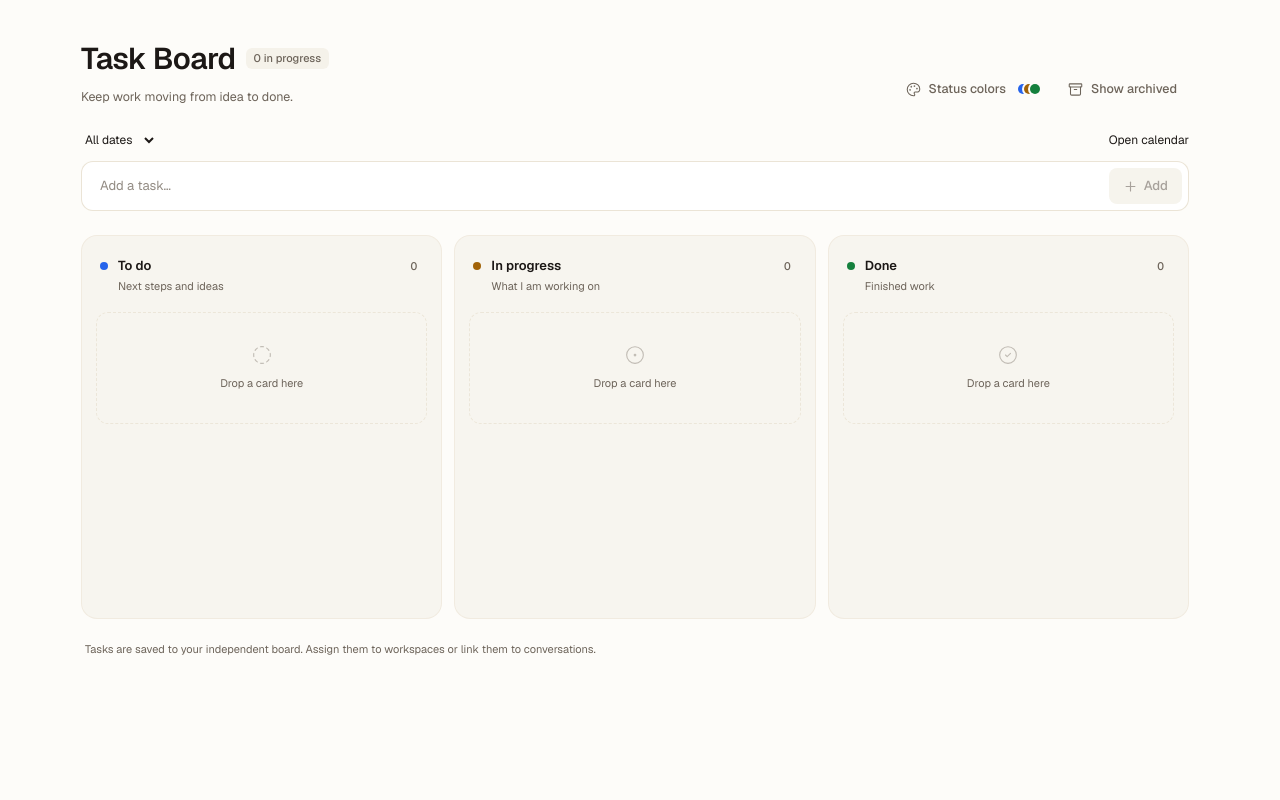
Scenario: Task Board › keeps the draft and existing card when saving fails
Type "Review derivatives" into the field named "New task" at (594, 186), box [88,168,1101,204]
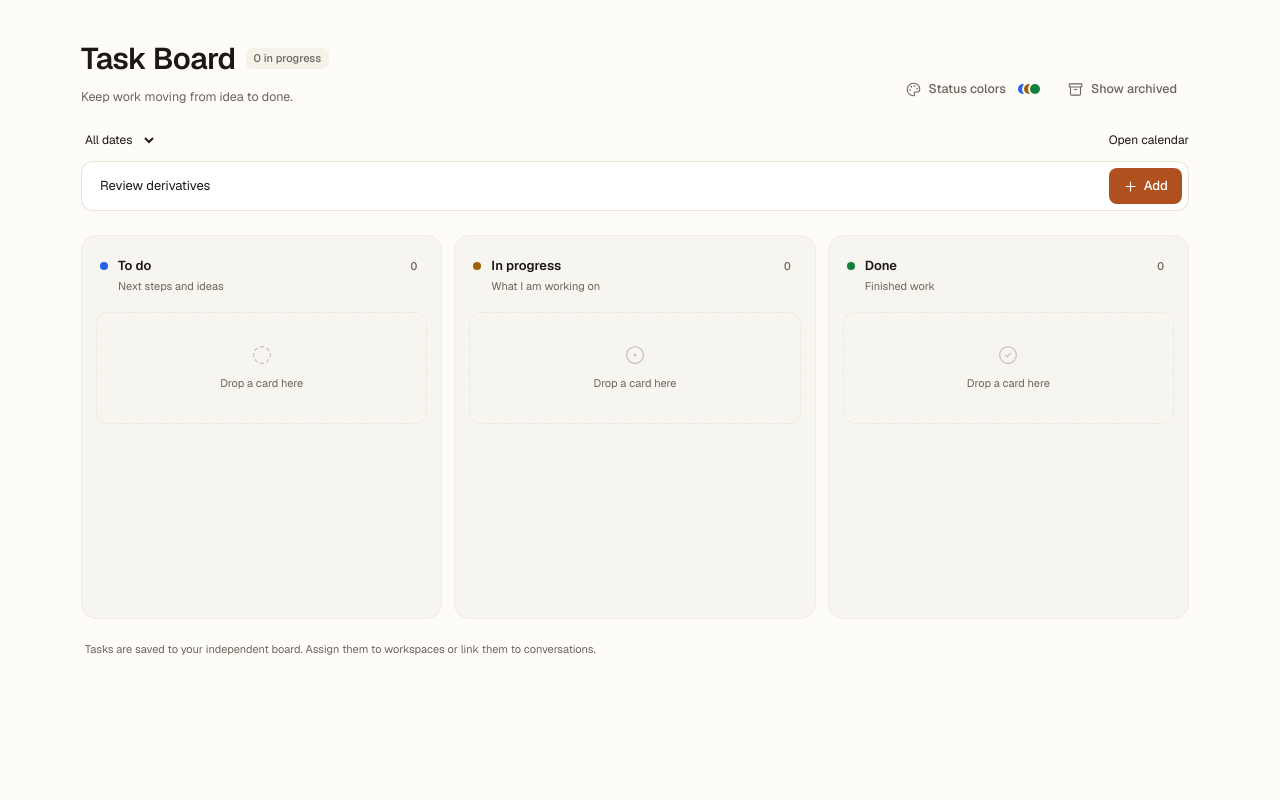
Click the button "Add" at (1145, 186), box [1109,168,1182,204]
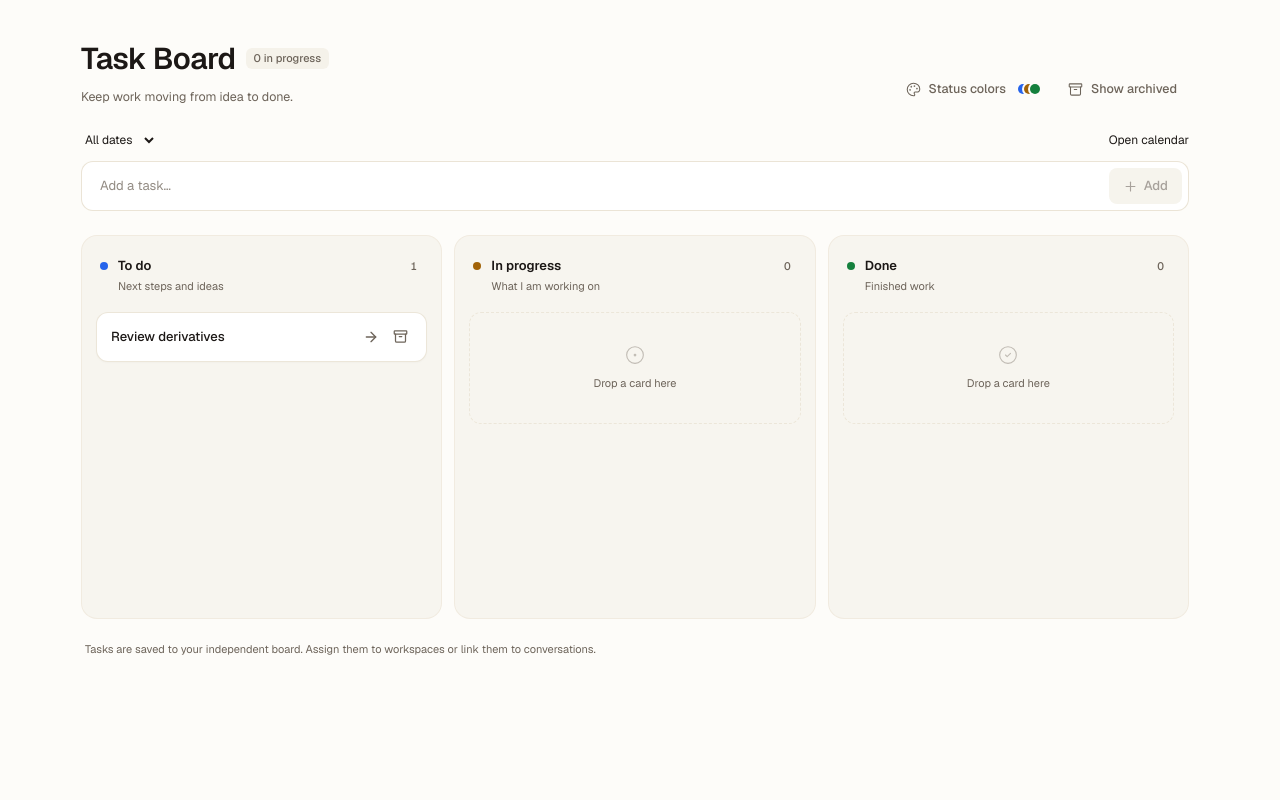
Now the button "Review derivatives" is shown
Click the button "Review derivatives" at (168, 336), box [111,325,412,349]
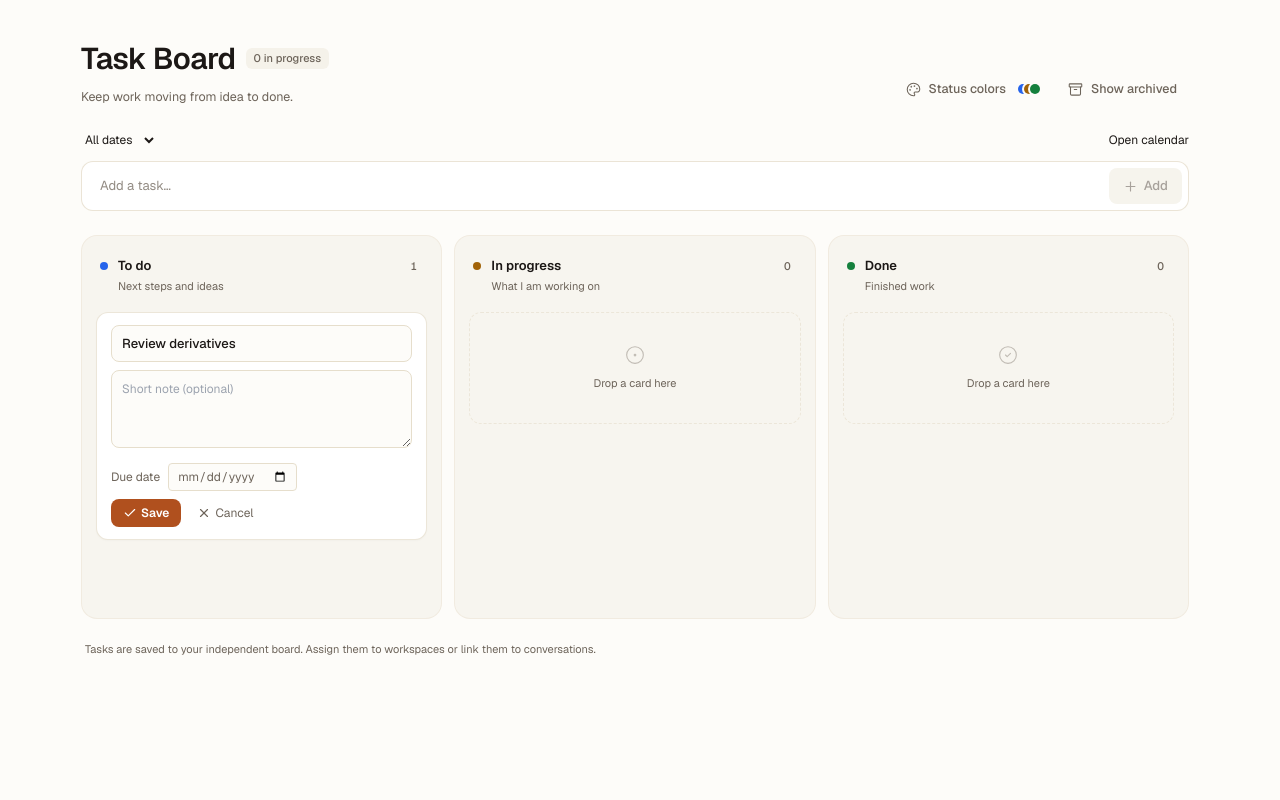
Type "Unsaved note" into the text box named "Task note" at (262, 409), box [111,370,412,448]
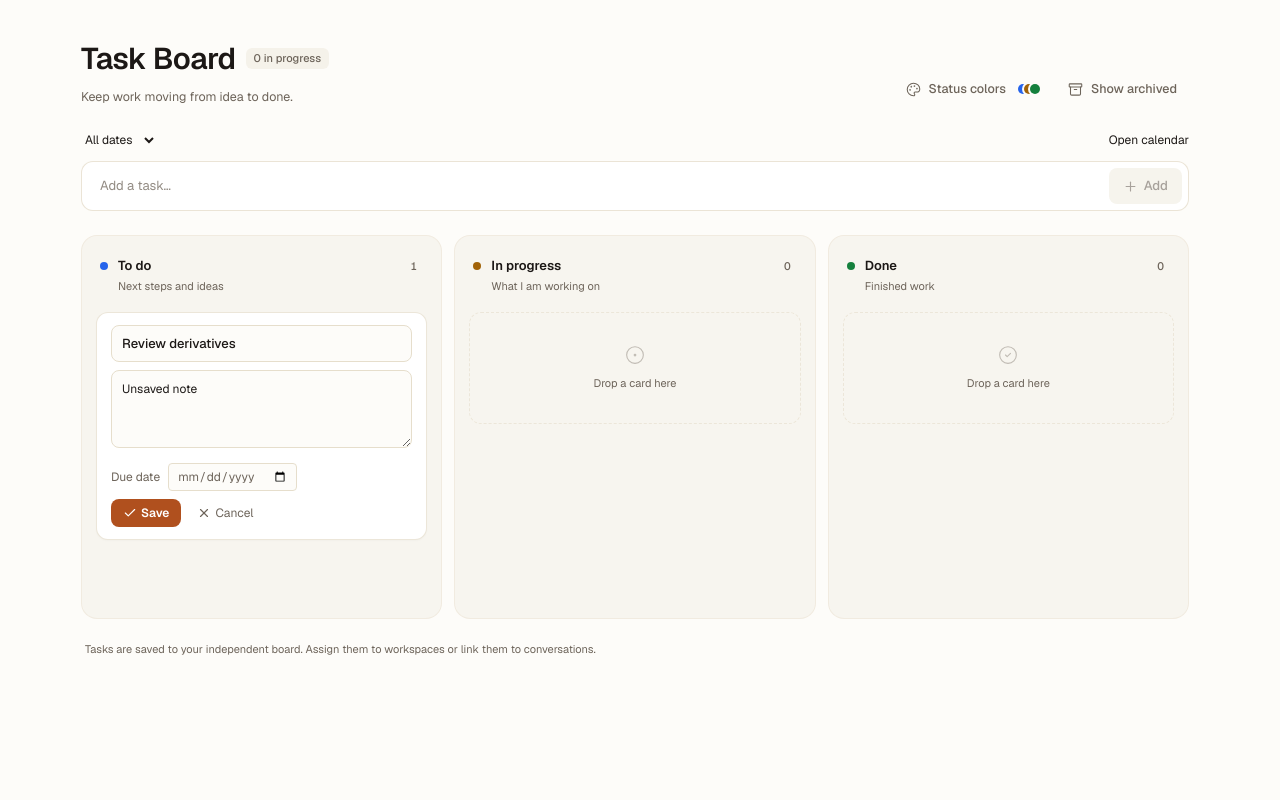
Click the button "Save" at (146, 513), box [111,499,182,527]
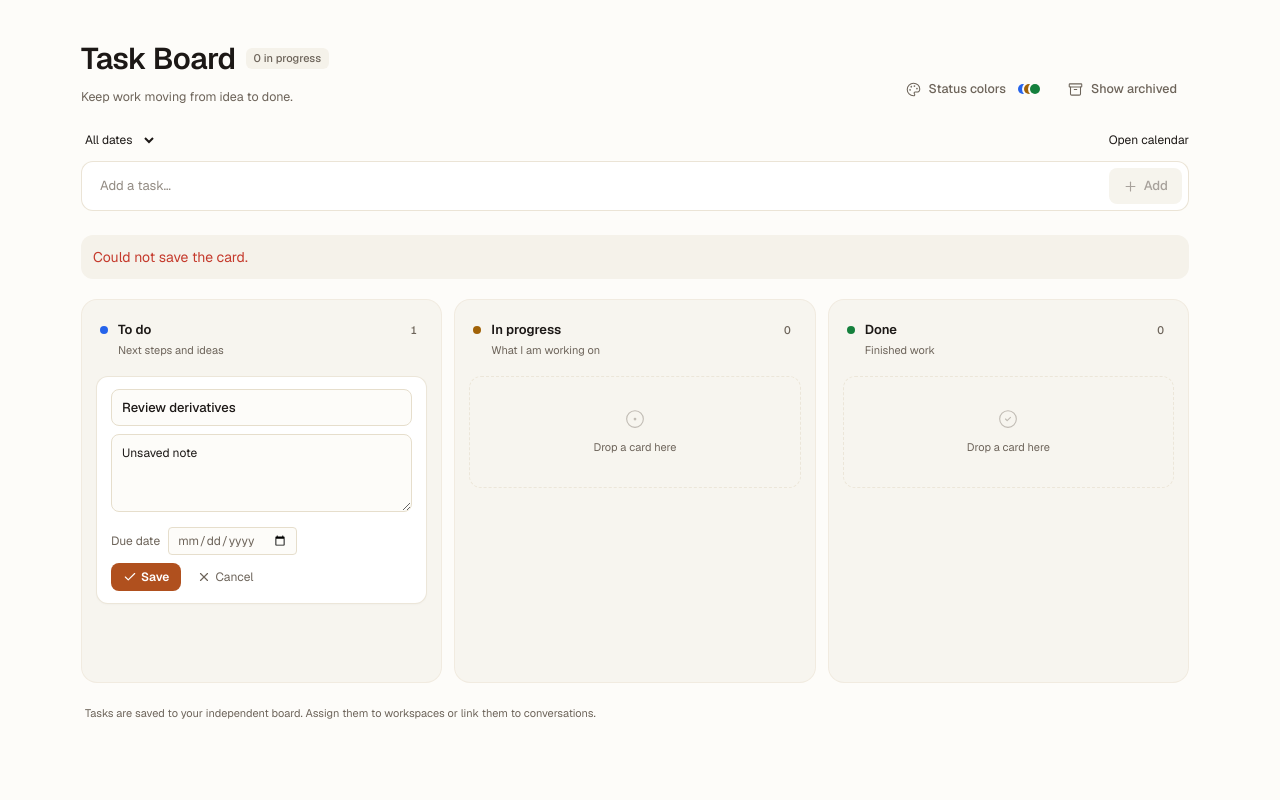
Now the message reads "Could not save the card.", box [93,248,248,266]
